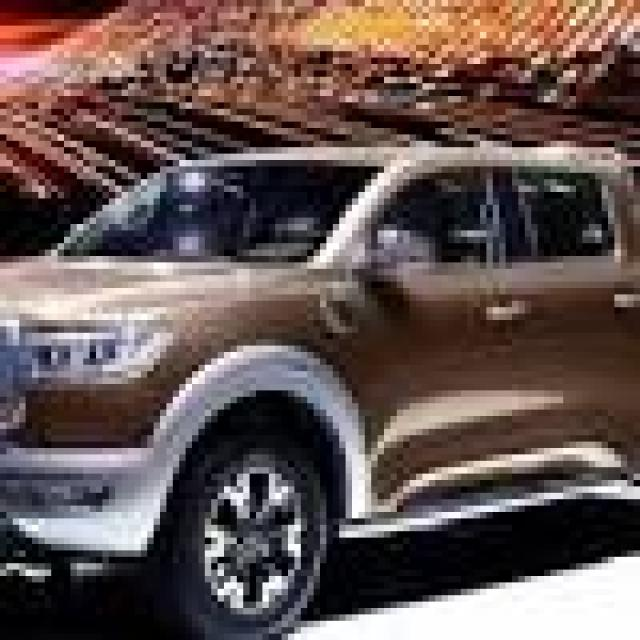Pickup Trucks: (6, 147, 640, 634)
